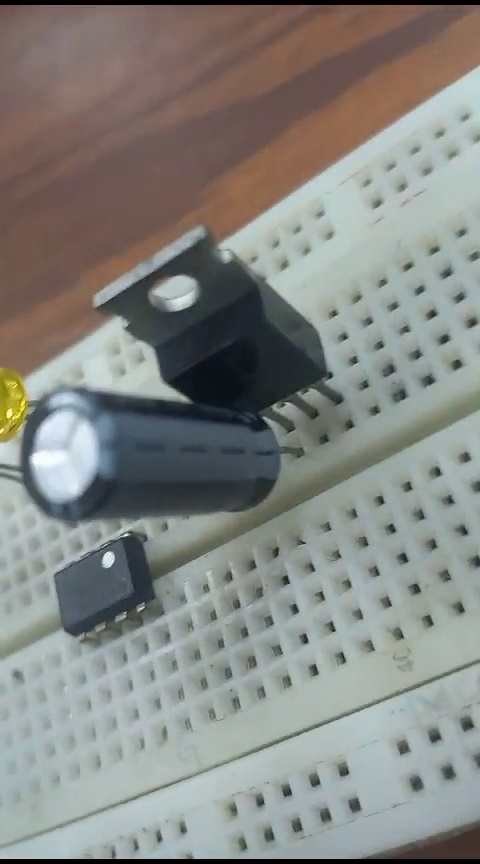IC: (35, 544, 167, 615)
LED: (3, 352, 24, 444)
capacitor: (32, 383, 294, 524)
voltage regulator: (88, 215, 340, 403)
